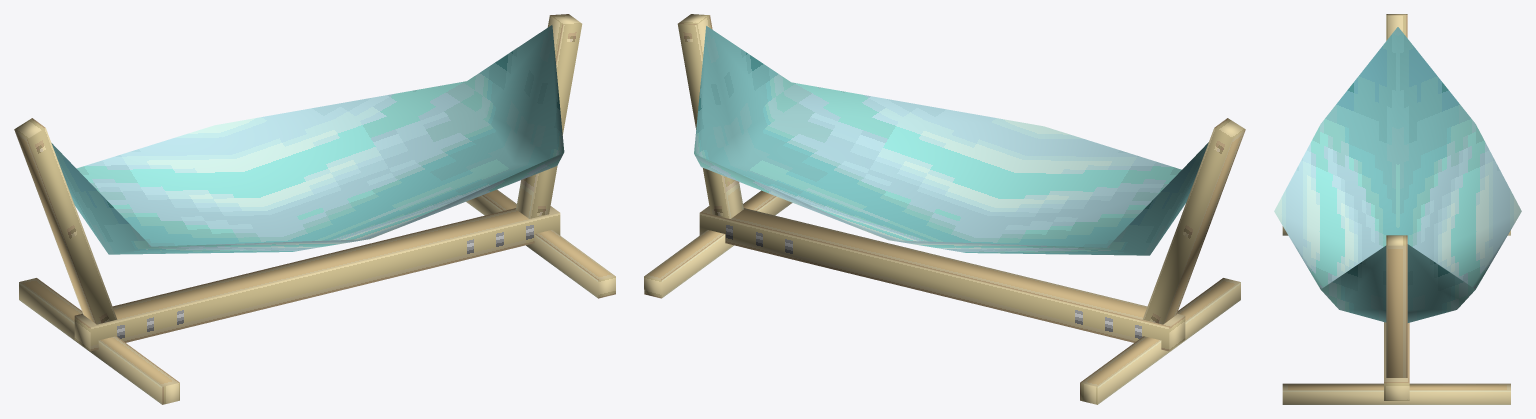
3 views of the same model, side by side, from view 1: azimuth 30°, elevation 25°; view 2: azimuth 150°, elevation 25°; view 3: azimuth 270°, elevation 25° (orthographic). The views are drawn at different scales.
Visible parts, largest first — view 1: 3423IMIG20_22; view 2: 3423IMIG20_22; view 3: 3423IMIG20_22.
Boxes of the visible parts, bbox=[...] form: 3423IMIG20_22: bbox=[14, 14, 615, 404]; 3423IMIG20_22: bbox=[644, 14, 1245, 404]; 3423IMIG20_22: bbox=[1274, 14, 1521, 404].
Bounding box in the file's own units: 1.93 × 0.8074 × 0.9395.
2 materials, 2 textured.
